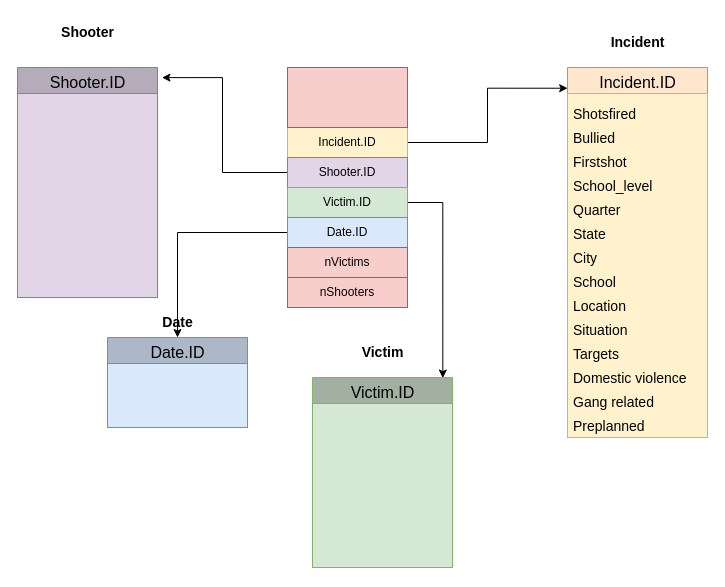
The diagram is 725 pixels wide and 587 high, and some of its shapes have lost their labels. Here are the shapes that lost their labels. From the top down, the centre of each, then its label:
At pixel 347 97: "Shooting".
At pixel 87 195: "Incident_ID Race Gender Age School_affiliation Shooteroutcome Shooterdied Injury".
At pixel 177 395: "Year Month".
At pixel 382 485: "Incident_UD Race Gender Age School_affiliation Injury".
